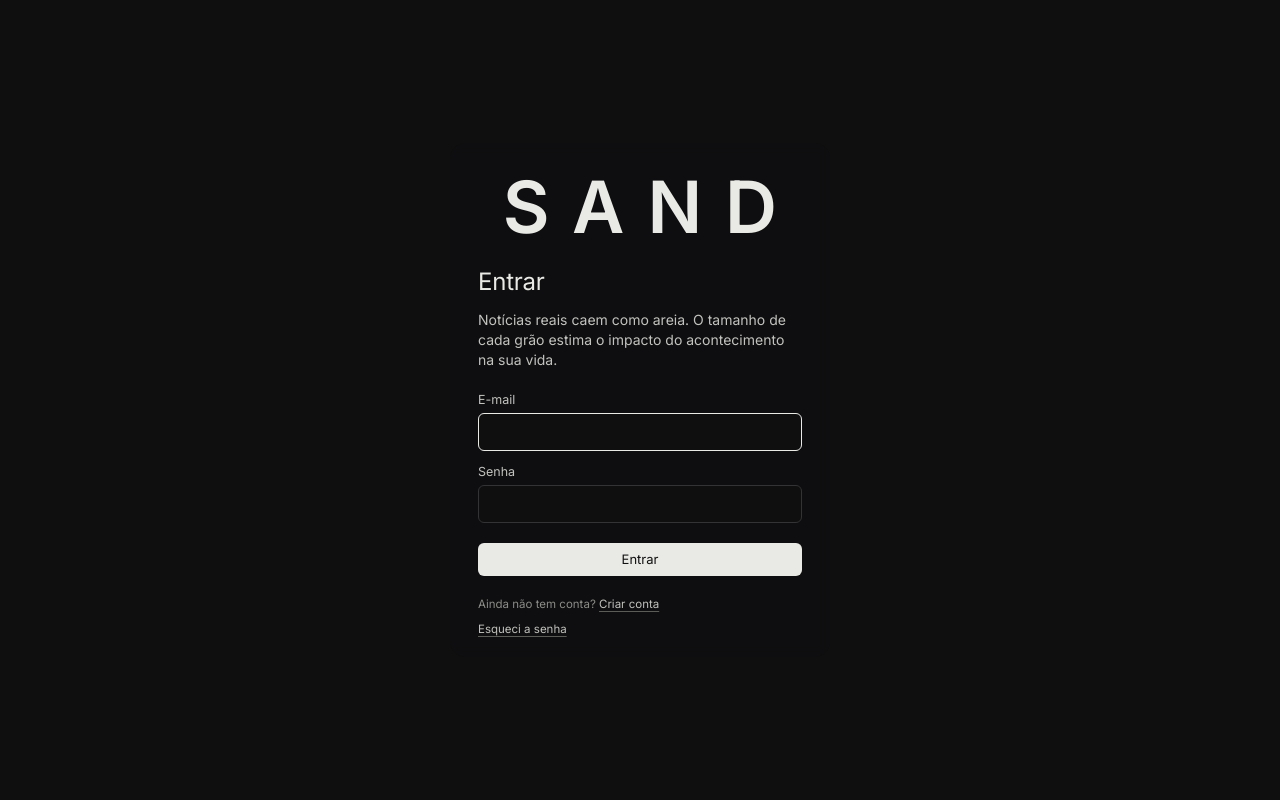
Test: login and first-login questionnaire › requires login; wrong password shows a clear error
The width and height of the screenshot is (1280, 800).
Check: the heading "Entrar" is shown, box [478, 267, 545, 296]
Type "eu@example.com" into the field labelled "E-mail" at x=640, y=432, box [478, 413, 802, 451]
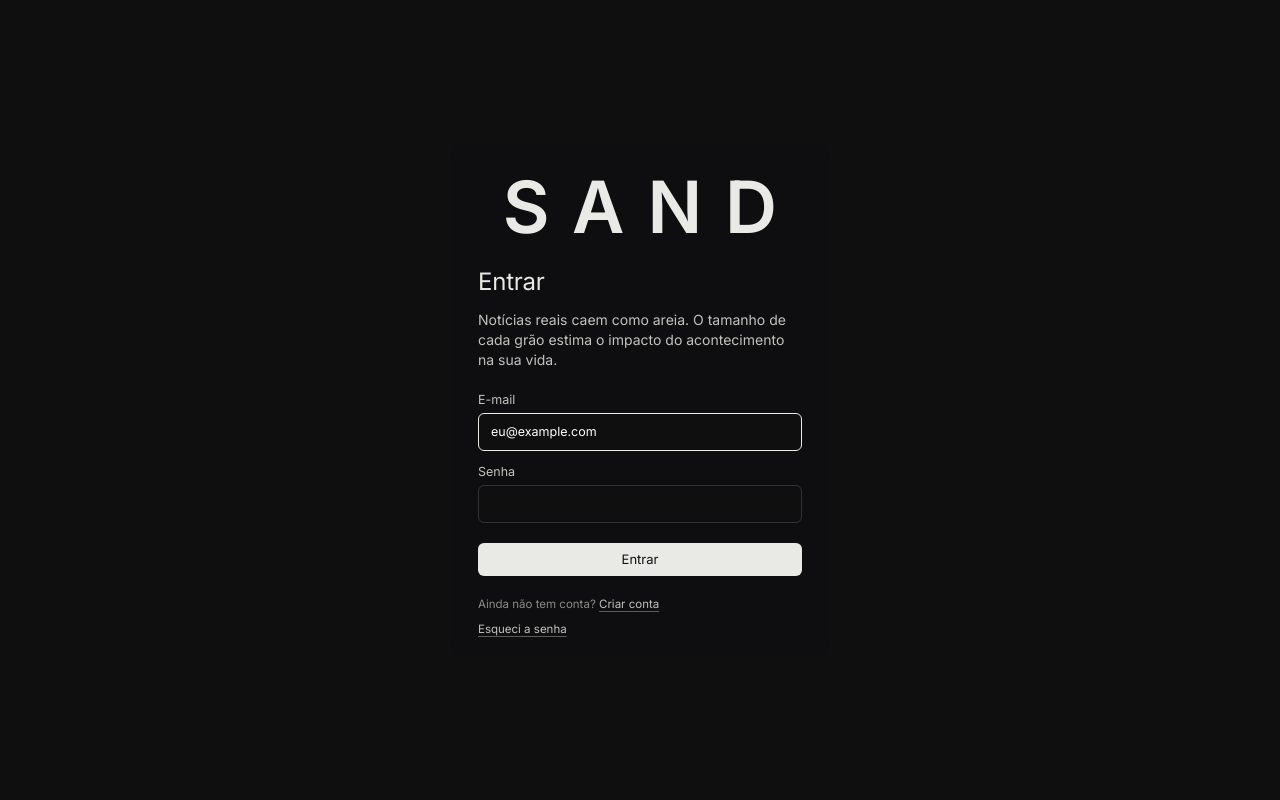
Type "errada-123" into the password field labelled "Senha" at x=640, y=504, box [478, 485, 802, 523]
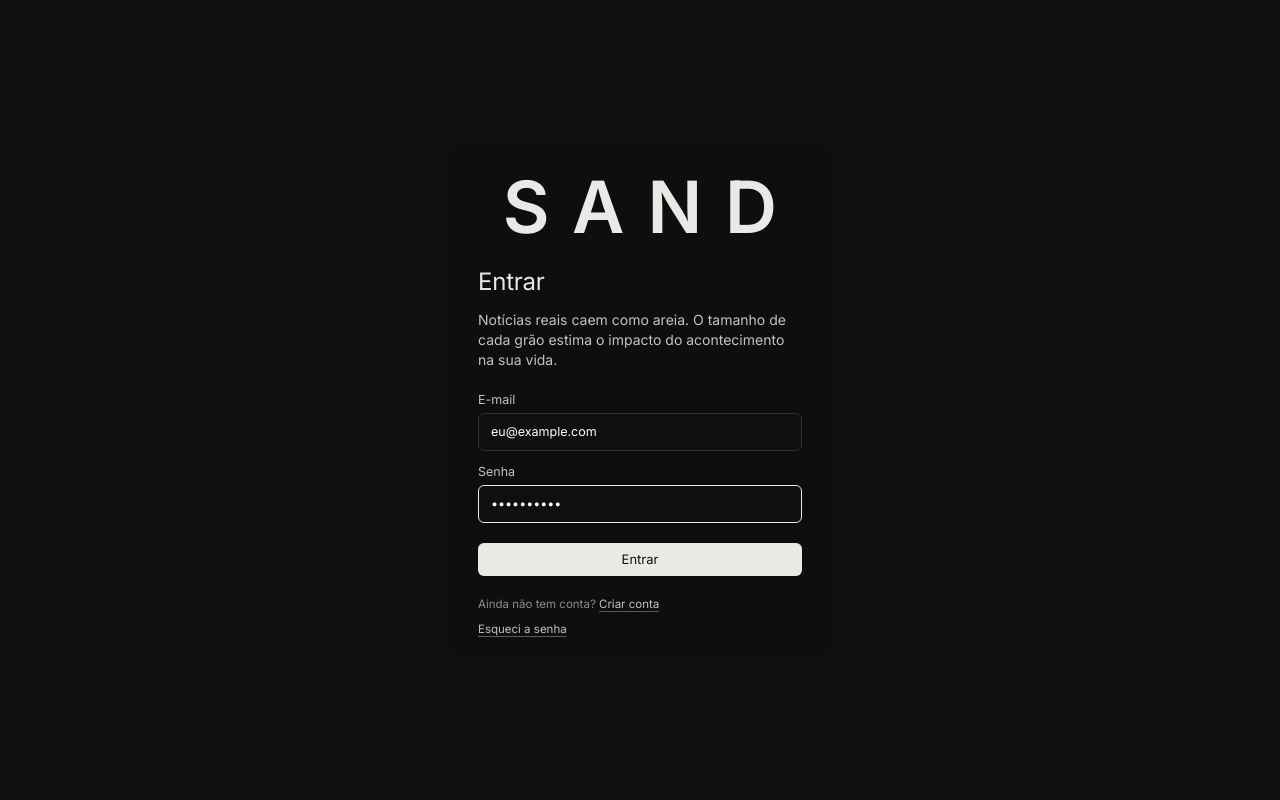
Click the button "Entrar" at x=640, y=559, box [478, 543, 802, 576]
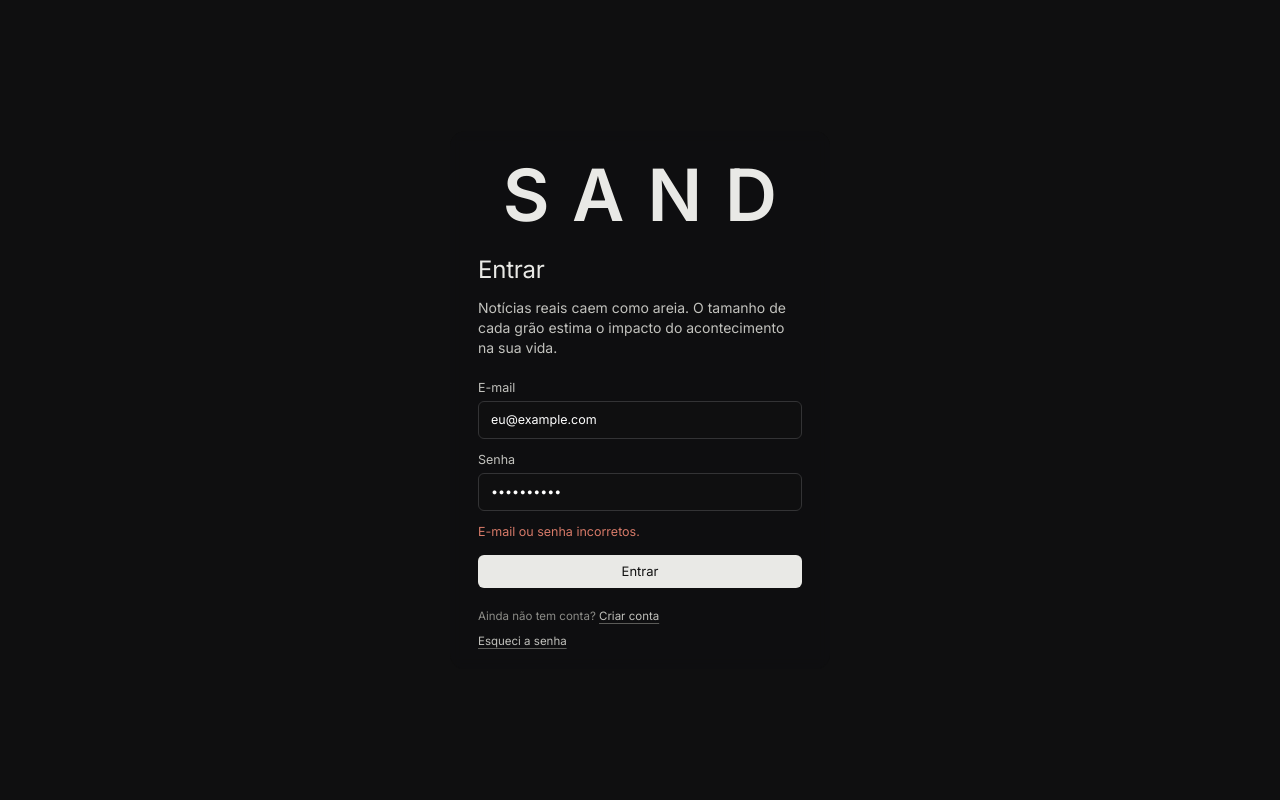
Check: the message reads "E-mail ou senha incorretos.", box [478, 524, 640, 539]
